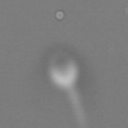normal: (60, 87, 96, 126)
